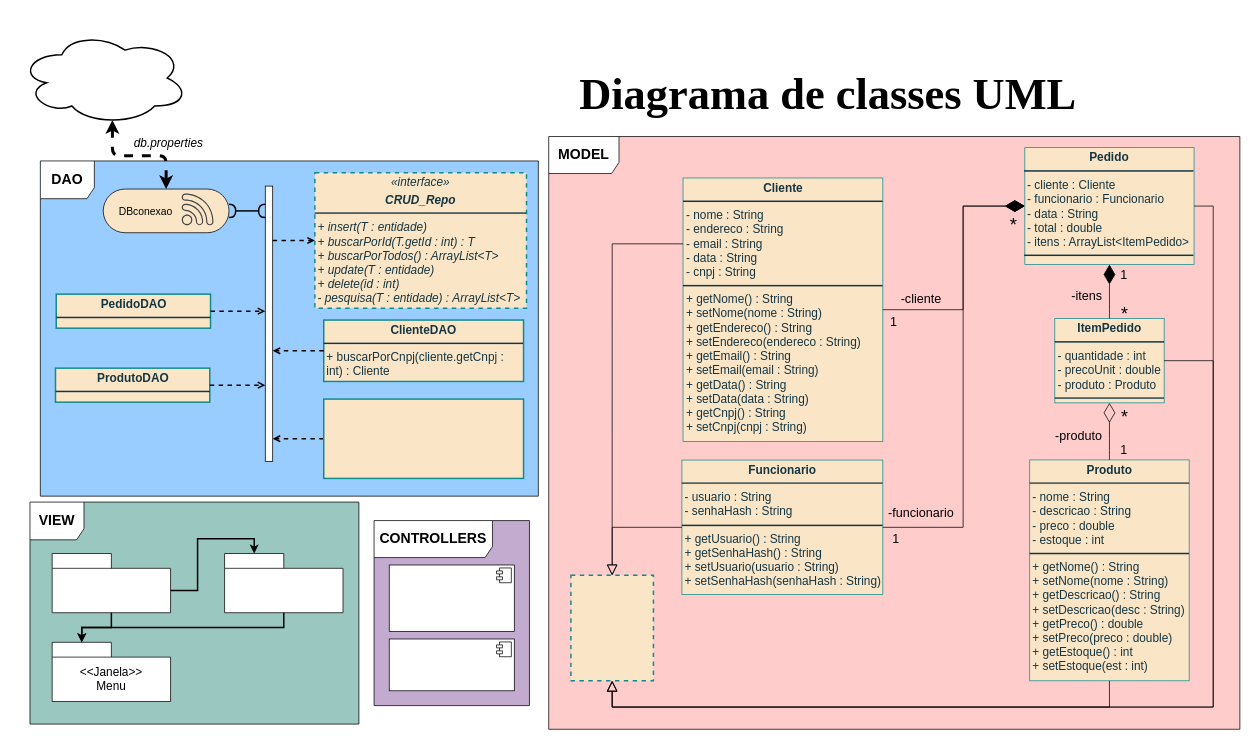
This 1253x742 diagram has some shape labels left out. Here are the shapes that lost their labels. From the top down, the centre of each, then its label:
(x=103, y=77): Banco de dados
(x=423, y=438): FuncionarioDAO + buscarPorUsuarioESenha(fun : Funcionario) : Funcionario
(x=111, y=583): <<Janela>> Login
(x=283, y=583): <<Janela>> Cadastro
(x=451, y=598): Login + autenticar() + registrar()
(x=612, y=627): «abstract» Obj_Base - id : int + getId() : int + setId(id : int)
(x=451, y=664): Cadastro + salvarUsuario()
